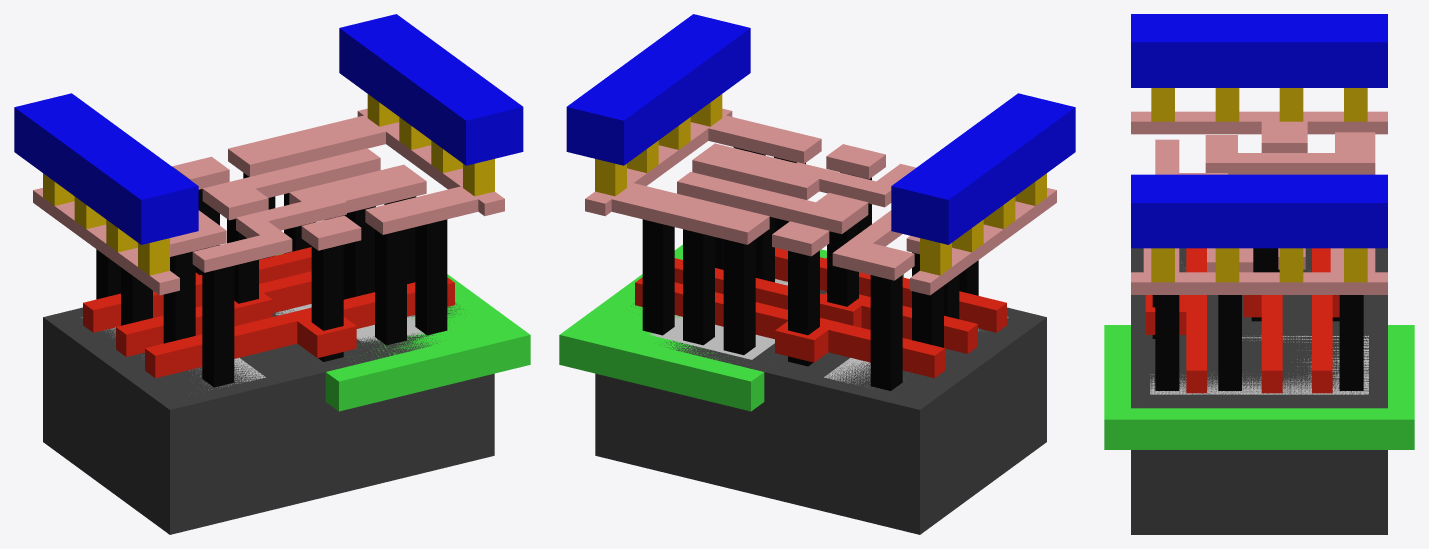
The model's file is sky130_fd_sc_hd__o21ai_1.obj.
3 views of the same model, side by side, from view 1: azimuth 30°, elevation 25°; view 2: azimuth 150°, elevation 25°; view 3: azimuth 270°, elevation 25° (orthographic).
Parts seen in each view (by area): view 1: subs, metal1, li, licon, poly, nwell, mcon, tap; view 2: subs, metal1, li, licon, poly, nwell, mcon, tap, diff; view 3: metal1, subs, li, nwell, poly, licon, mcon, tap.
Boxes of the visible parts, x1,y1,x2,y2 form: subs: [43, 303, 494, 534]; metal1: [14, 14, 523, 244]; li: [33, 108, 504, 295]; licon: [96, 173, 447, 387]; poly: [83, 247, 454, 378]; nwell: [276, 253, 530, 411]; mcon: [43, 94, 494, 275]; tap: [275, 304, 448, 342]; subs: [595, 279, 1046, 534]; metal1: [566, 14, 1075, 244]; li: [585, 108, 1056, 295]; licon: [642, 147, 978, 390]; poly: [635, 247, 1006, 378]; nwell: [559, 244, 903, 411]; mcon: [595, 94, 1046, 275]; tap: [647, 279, 787, 359]; diff: [824, 316, 1008, 386]; metal1: [1131, 14, 1387, 248]; subs: [1131, 248, 1387, 534]; li: [1131, 111, 1387, 294]; nwell: [1104, 325, 1414, 449]; poly: [1145, 248, 1339, 393]; licon: [1152, 248, 1363, 390]; mcon: [1151, 88, 1367, 282]; tap: [1150, 335, 1368, 394].
Bounding box in the file's own units: 3.2 × 2.74 × 2.22.
